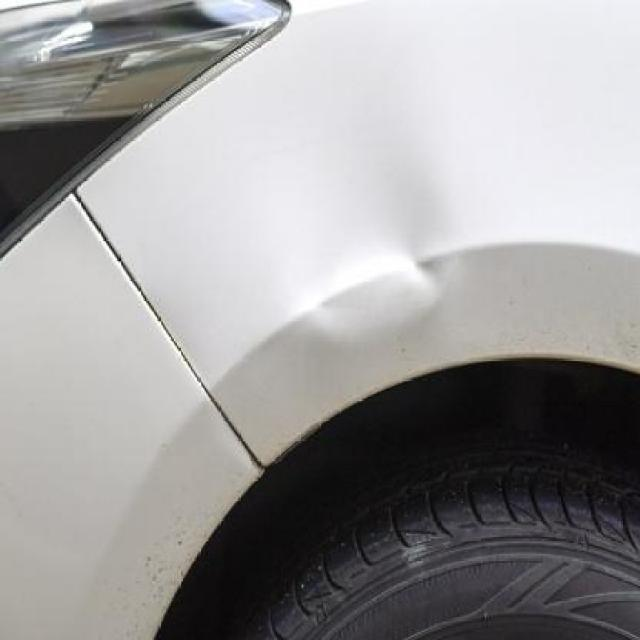dent: (271, 132, 449, 315)
